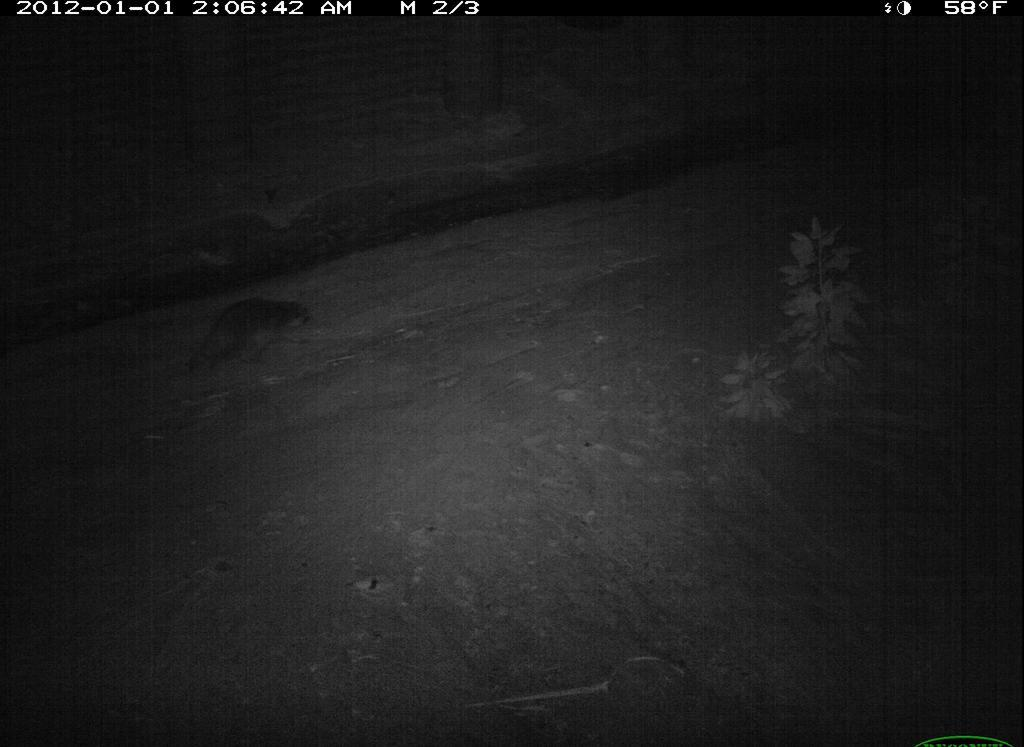raccoon: (185, 289, 326, 385)
